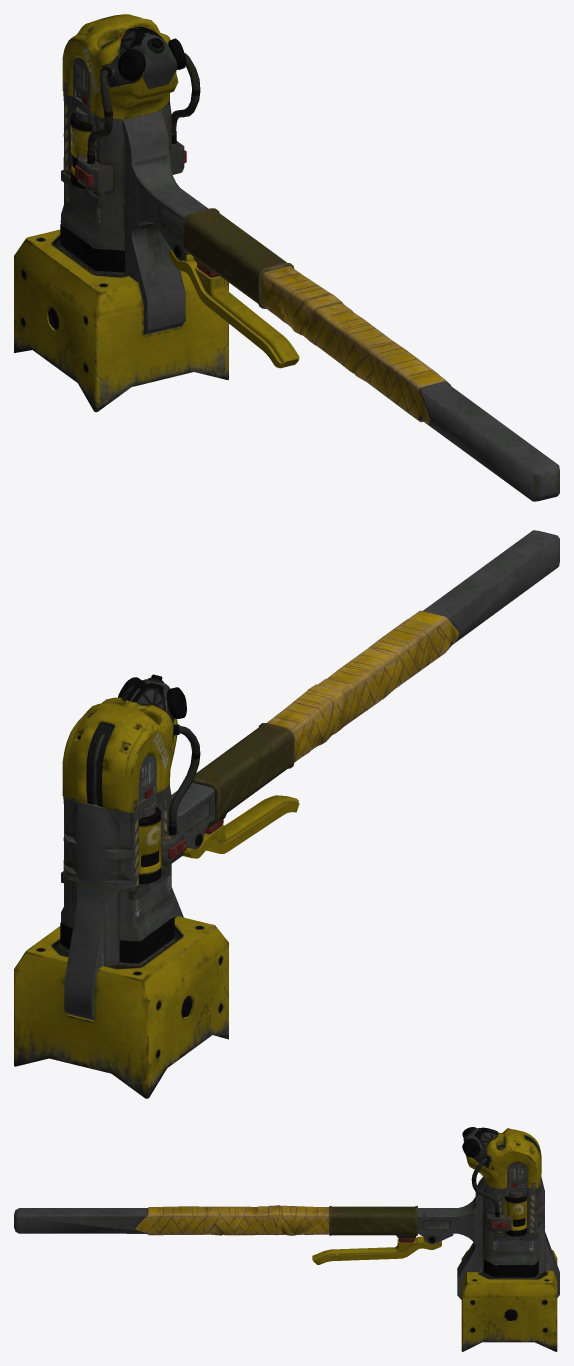
Rendered from item.weapon.foundry_bulwark.glb.
The picture shows the model from 3 angles, top to bottom: view 1: azimuth 30°, elevation 25°; view 2: azimuth 150°, elevation 25°; view 3: azimuth 270°, elevation 25°; orthographic projection. The views are drawn at different scales.
Parts seen in each view (by area): view 1: body_0_caustic_heirloom; view 2: body_0_caustic_heirloom; view 3: body_0_caustic_heirloom.
Boxes of the visible parts, x1=… form: body_0_caustic_heirloom: x1=14, y1=14, x2=559, y2=501; body_0_caustic_heirloom: x1=14, y1=530, x2=559, y2=1098; body_0_caustic_heirloom: x1=14, y1=1127, x2=559, y2=1351.
Bounding box in the file's own units: 0.199 × 0.5035 × 1.2.
Materials: 1 (1 with a texture image).
